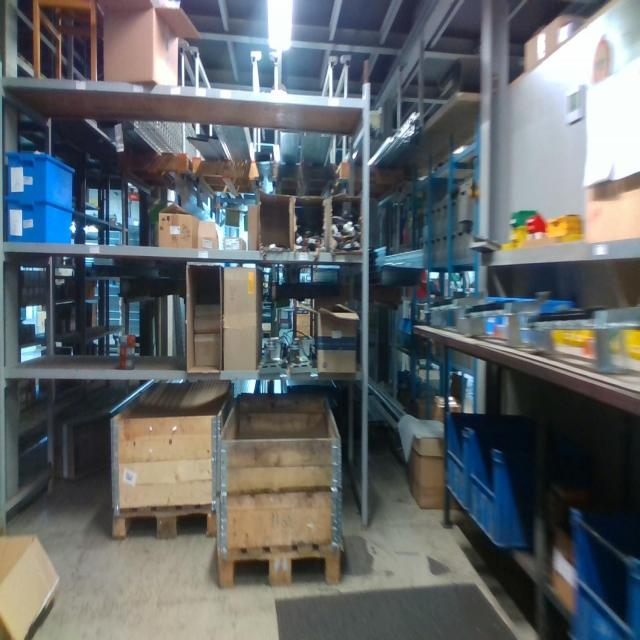pallet: (217, 538, 342, 592), (110, 499, 218, 541)
small_load_carrier: (442, 411, 550, 516), (466, 433, 542, 562), (570, 512, 639, 637), (4, 145, 70, 205), (7, 195, 74, 247)
